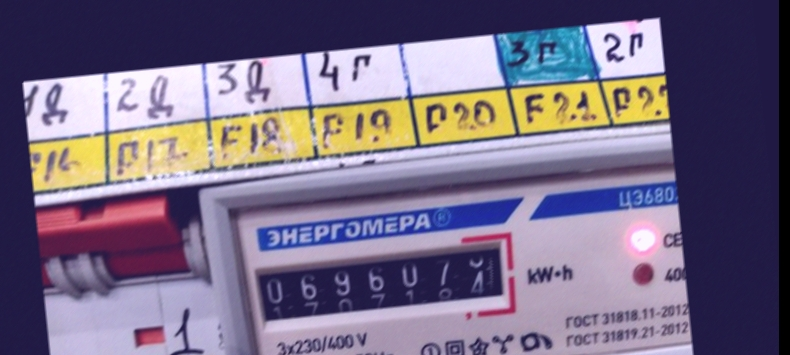0: (396, 257, 417, 289), (262, 275, 282, 304)
4: (464, 265, 484, 296)
6: (296, 270, 316, 300), (363, 262, 383, 292)
7: (430, 255, 452, 287)
9: (329, 267, 349, 297)
screen: (238, 227, 522, 338)
